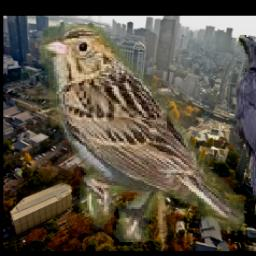Crow: (237, 36, 256, 219)
Sparrow: (41, 25, 246, 243)
